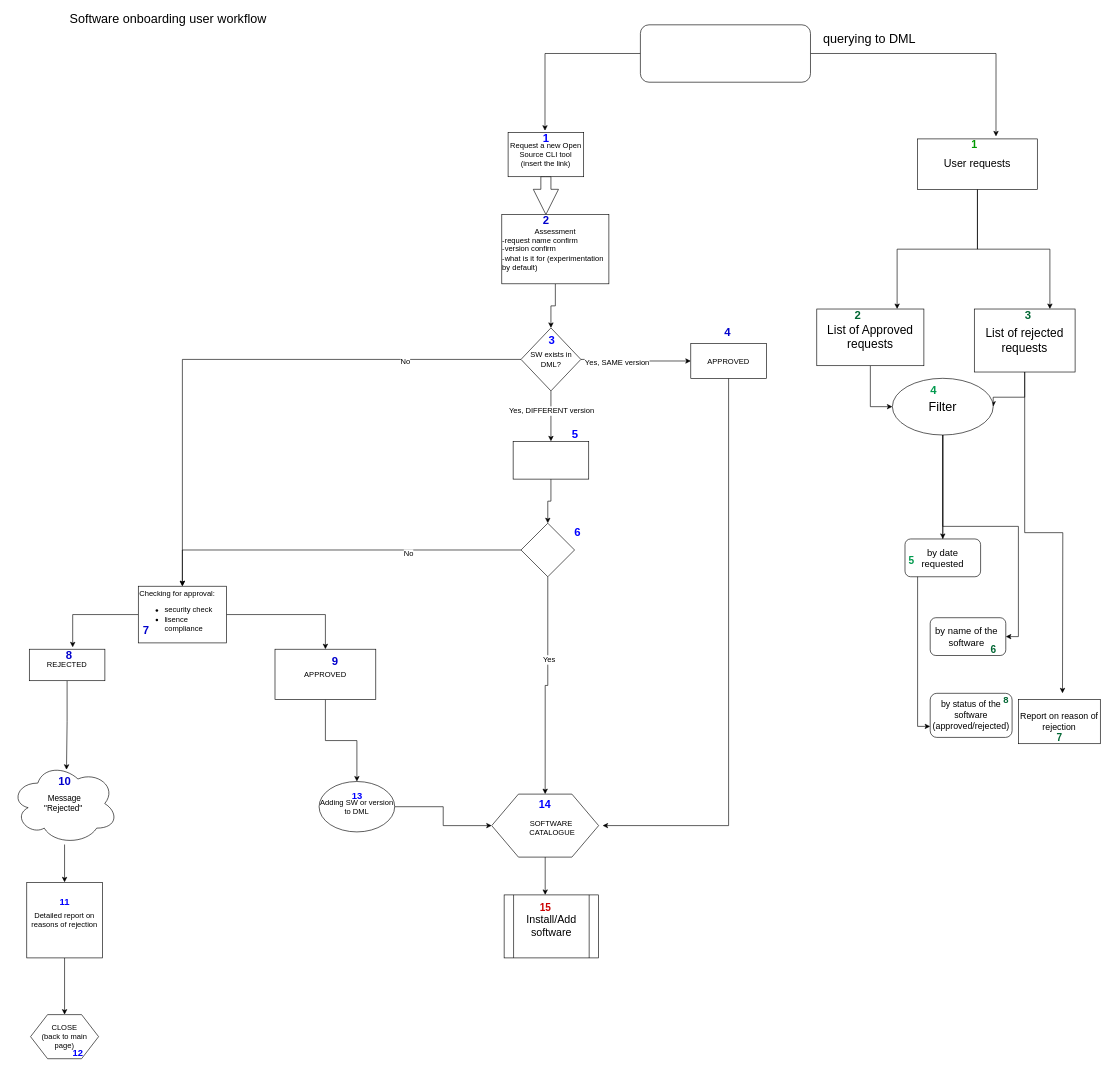
This 1111x1070 diagram has some shape labels left out. The centre of each missing label's shape, as x and y in pixels:
"Accept existing version?" goes at point (547, 550).
"HOME PAGE" goes at point (725, 53).
"Suggest another version existing in DML" goes at point (551, 460).
